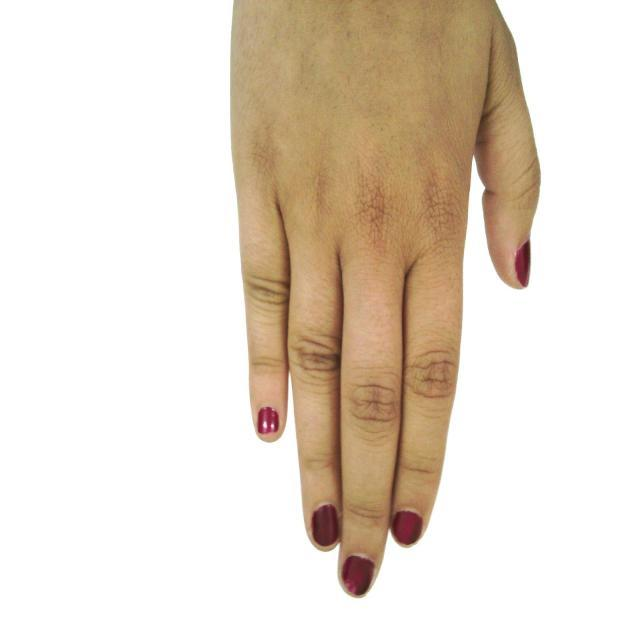Fingernail: (344, 557, 373, 596), (313, 506, 338, 549), (393, 512, 422, 546), (258, 407, 279, 437), (516, 243, 530, 287)
